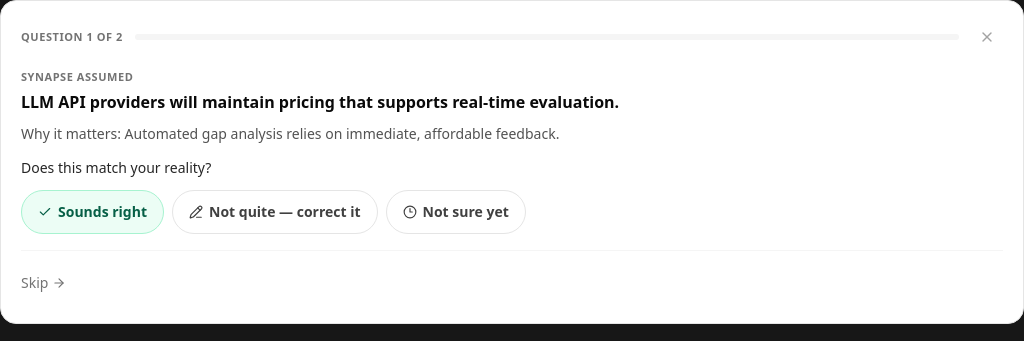
SharpenPlanFlow › defers with Not sure yet, skips without an event, and can step back
Click the button "Not sure yet": (456, 212) [386,190,526,234]
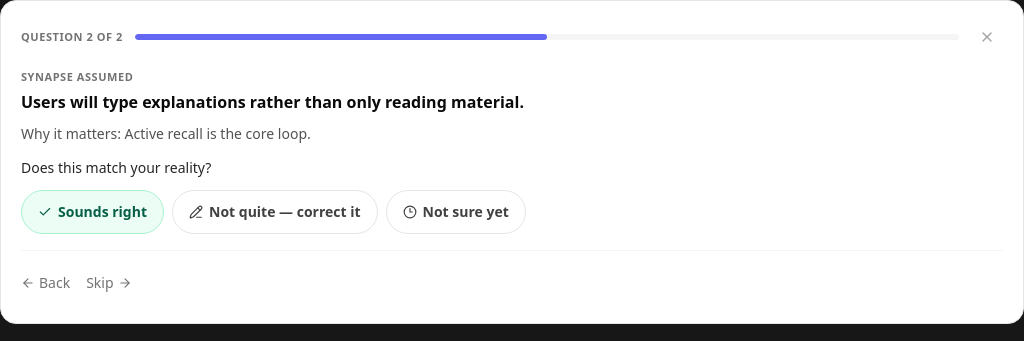
Expected: the text "Question 2 of 2" is shown, [21,29,123,45]
Click the button "Back": (46, 282) [21,262,70,302]
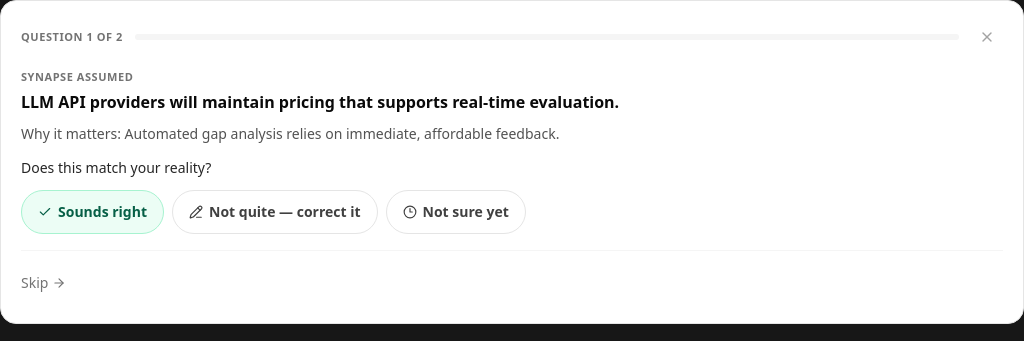
Expected: the text "Question 1 of 2" is shown, [21,29,123,45]
Click the button "Skip": (44, 282) [21,262,66,302]
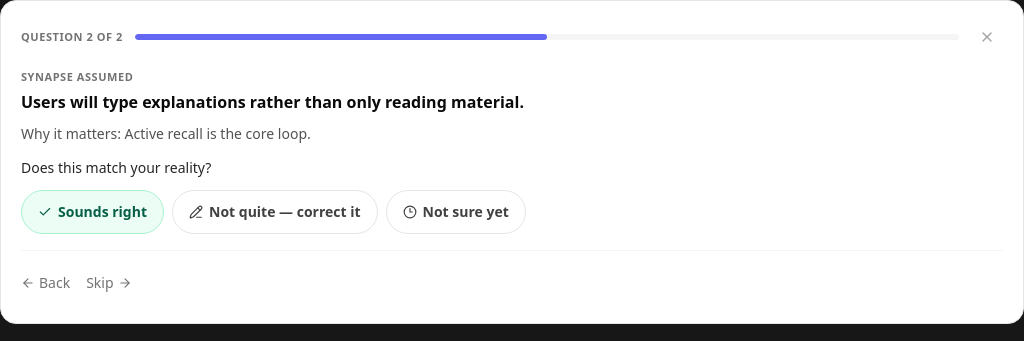
Click the button "Skip": (109, 282) [86,262,132,302]
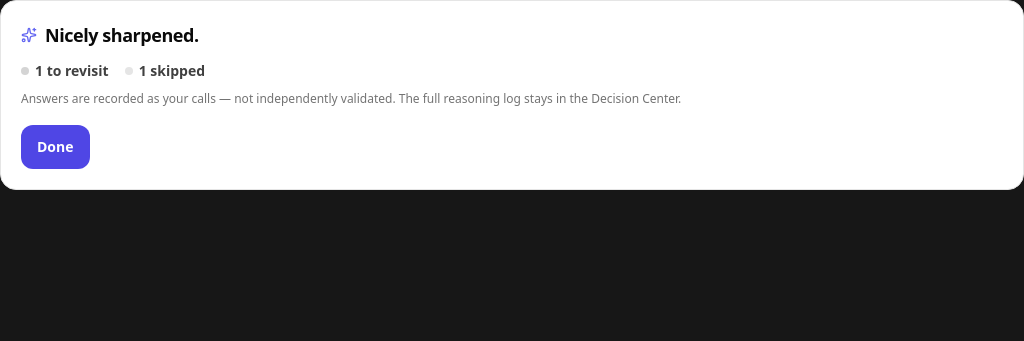
Expected: the text "1 to revisit" is shown, [21,61,109,81]
